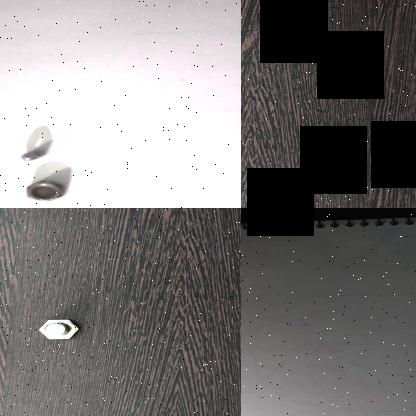Bolts: (34, 316, 81, 340)
NUTS: (15, 180, 71, 206), (14, 150, 52, 160)
